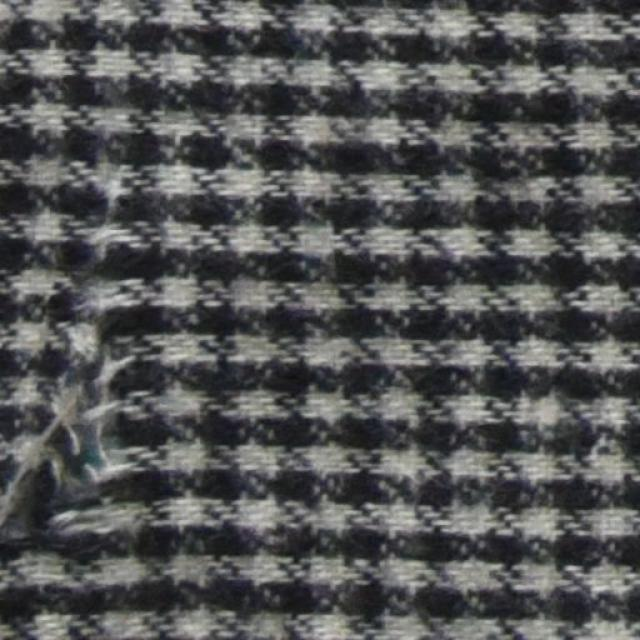Snag: (0, 135, 142, 598)
